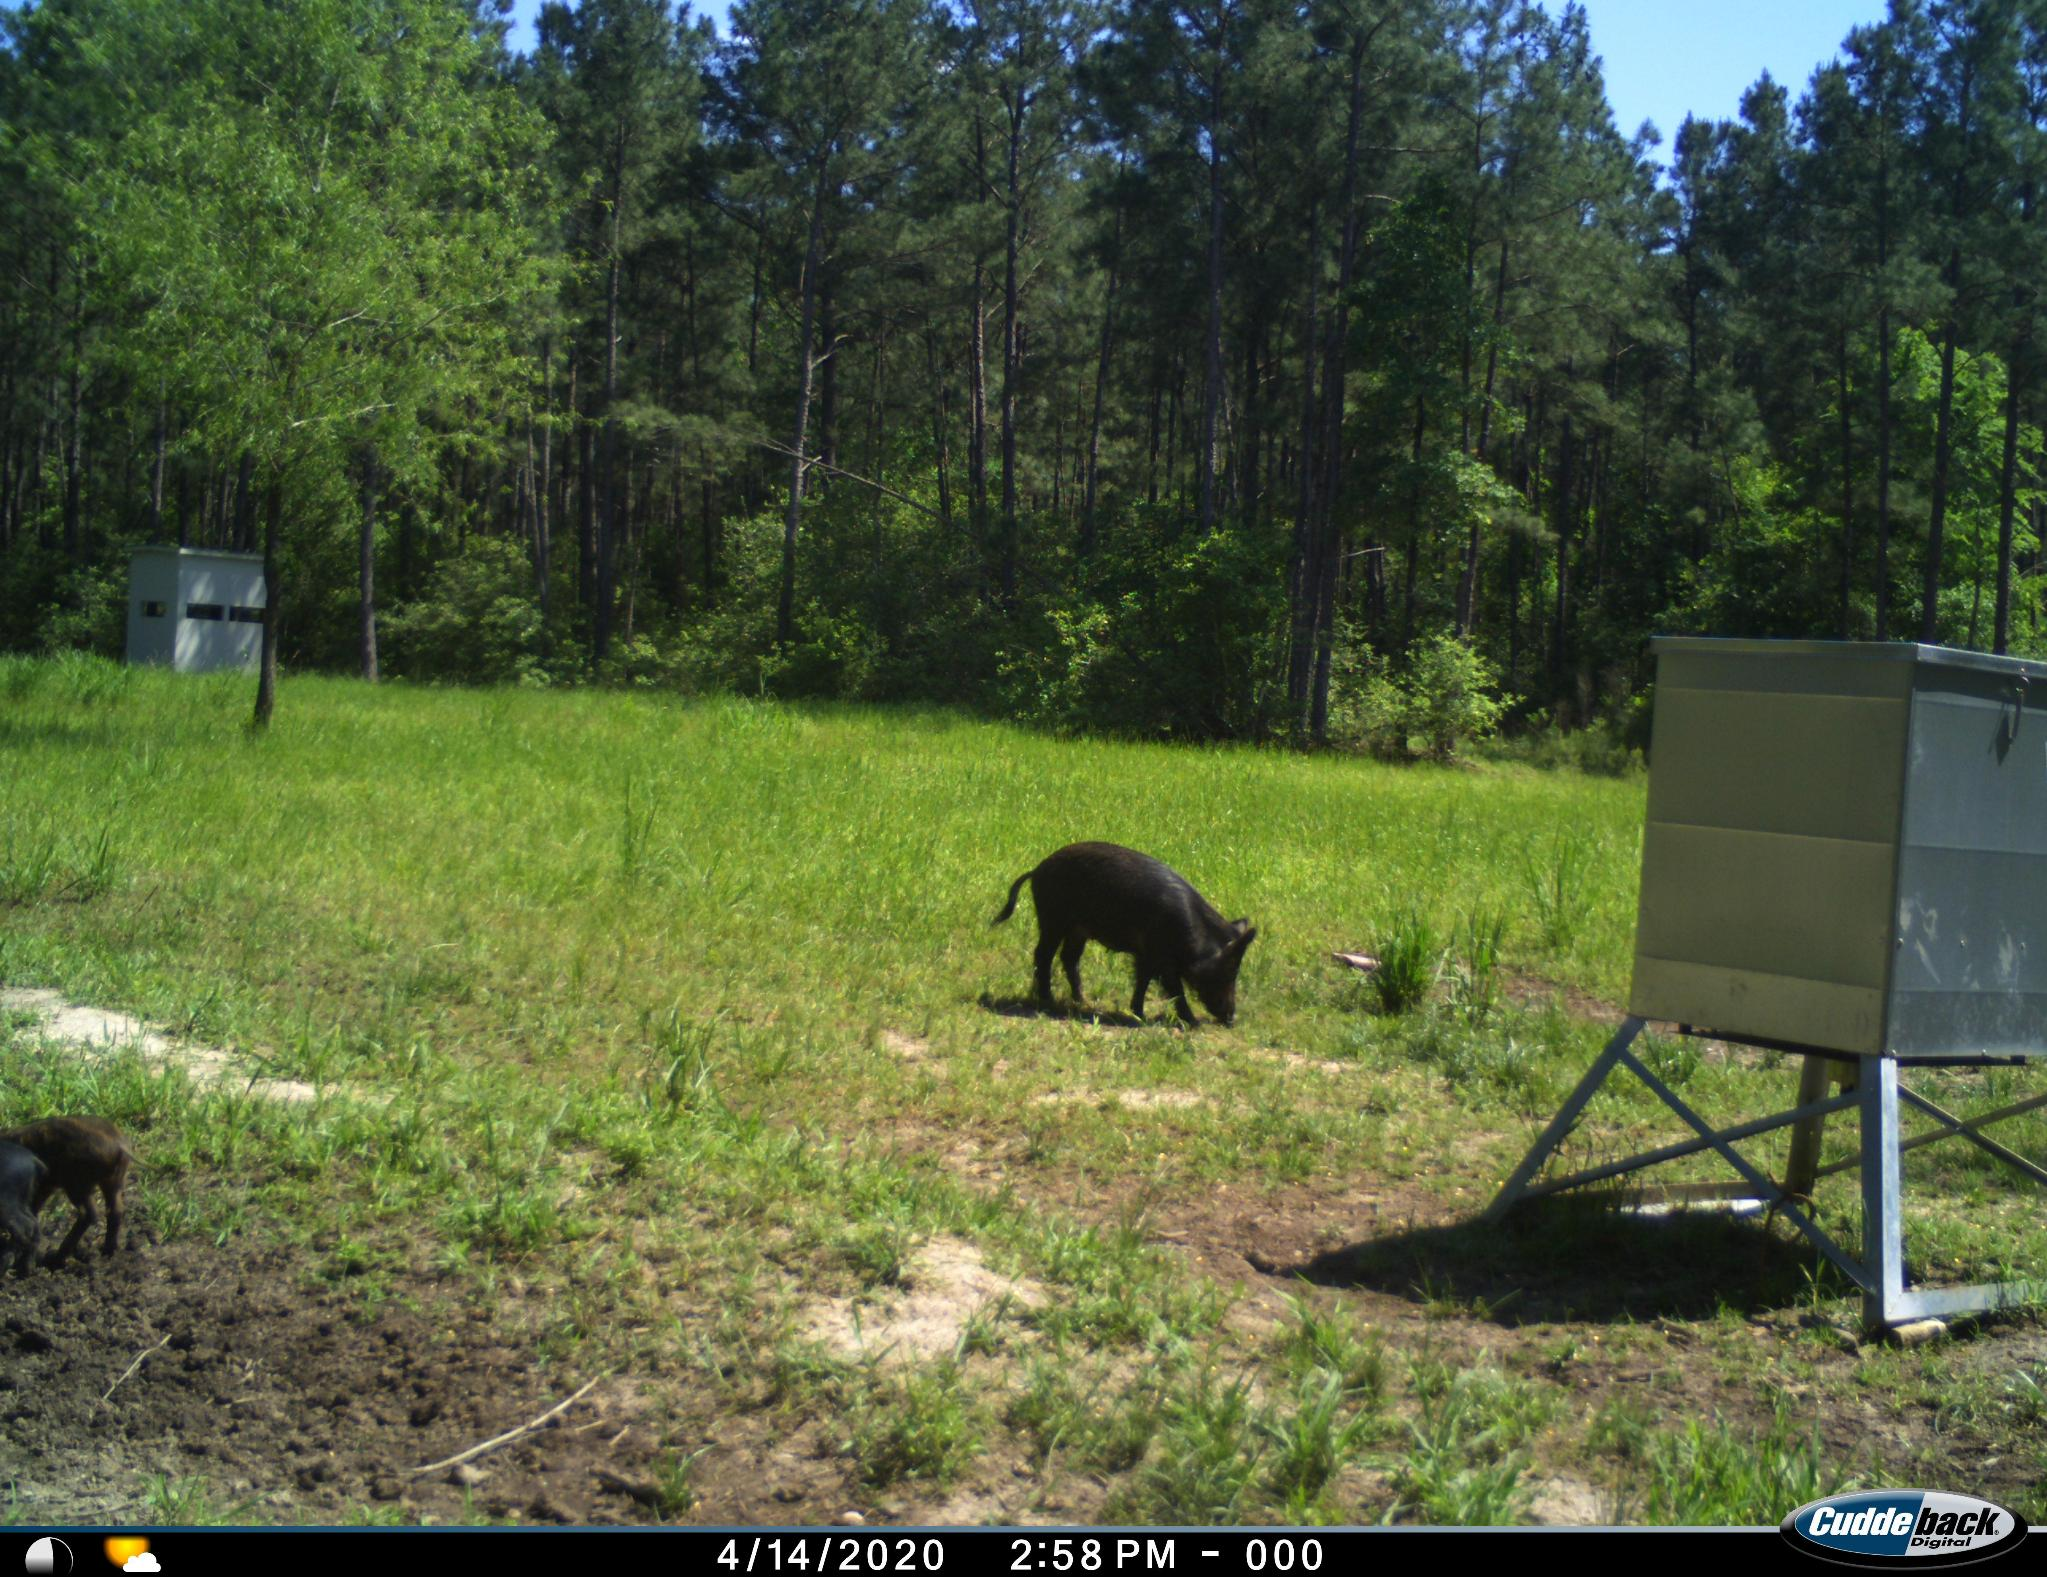Hog: (979, 837, 1262, 1034), (30, 1108, 162, 1239)
